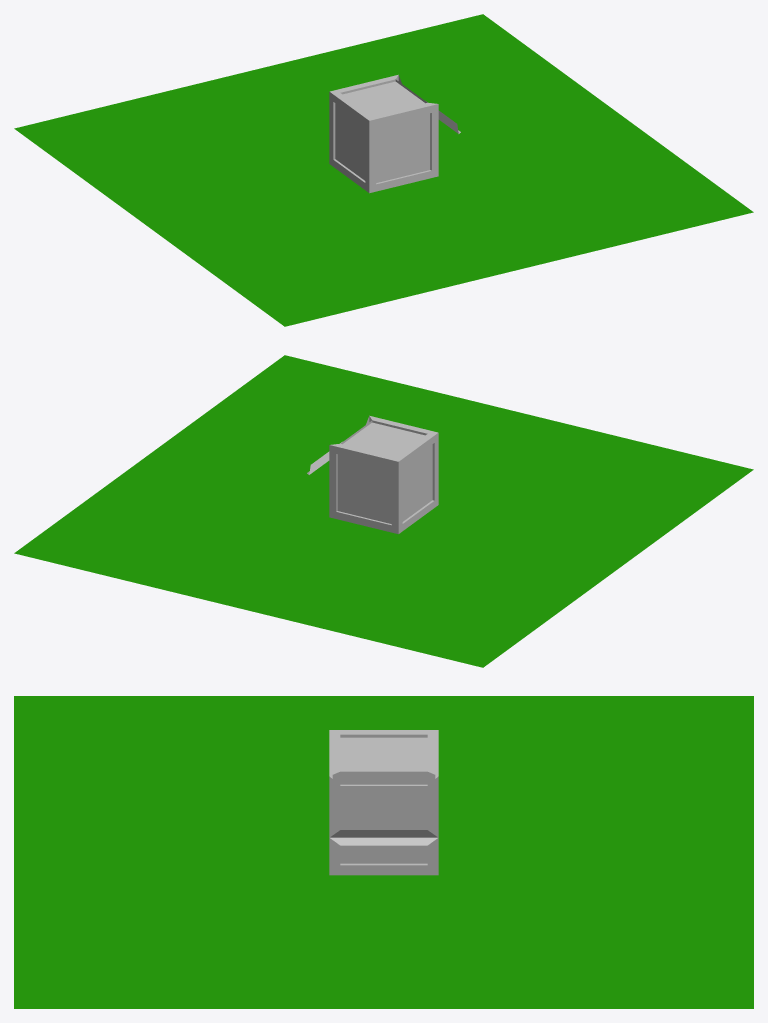
The model's file is caixa_000049.obj.
The picture shows the model from 3 angles, top to bottom: view 1: azimuth 30°, elevation 25°; view 2: azimuth 150°, elevation 25°; view 3: azimuth 270°, elevation 25°; orthographic projection. The views are drawn at different scales.
Parts seen in each view (by area): view 1: Plane, Cube_Cube.003; view 2: Plane, Cube_Cube.003; view 3: Plane, Cube_Cube.003, Cube.002_Cube.001, Cube.001_Cube.000.
Boxes of the visible parts, box(x1,y1,x2,y2) form: Plane: box(14, 14, 753, 326); Cube_Cube.003: box(329, 74, 438, 193); Plane: box(14, 355, 753, 667); Cube_Cube.003: box(329, 415, 438, 534); Plane: box(14, 696, 753, 1008); Cube_Cube.003: box(329, 730, 438, 875); Cube.002_Cube.001: box(340, 784, 427, 863); Cube.001_Cube.000: box(329, 830, 438, 845).
Size of the model in its own units: 13.55 by 2.01 by 13.55.
